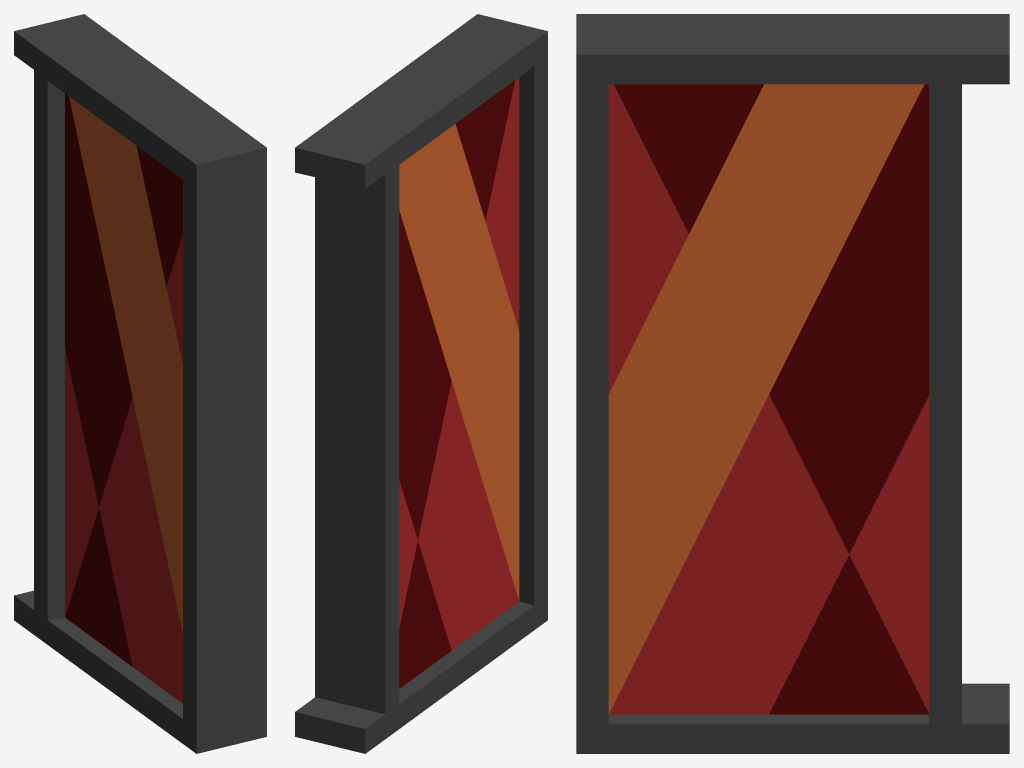
The model's file is neonSignB.fbx.
3 views of the same model, side by side, from view 1: azimuth 30°, elevation 25°; view 2: azimuth 150°, elevation 25°; view 3: azimuth 270°, elevation 25° (orthographic). The views are drawn at different scales.
Parts seen in each view (by area): view 1: NeonSign B; view 2: NeonSign B; view 3: NeonSign B.
Boxes of the visible parts, box(x1,y1,x2,y2) form: NeonSign B: box(14, 14, 266, 753); NeonSign B: box(295, 14, 547, 753); NeonSign B: box(576, 14, 1009, 753).
Bounding box in the file's own units: 50 × 400 × 225.
